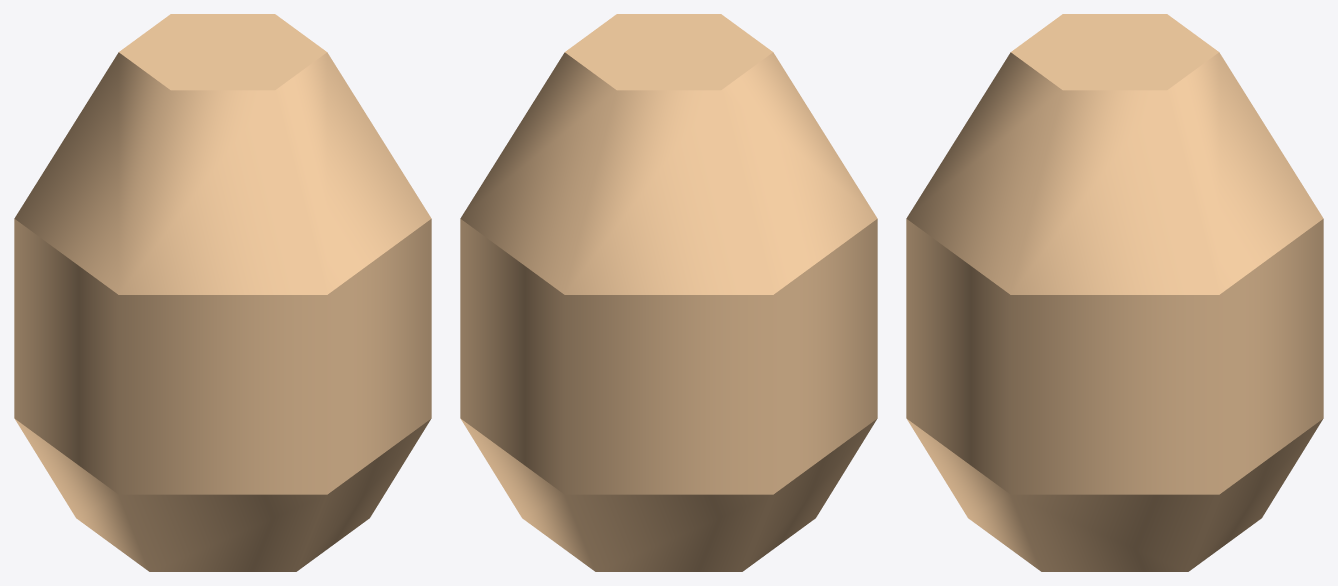
Rendered from egg.glb.
The picture shows the model from 3 angles, left to right: view 1: azimuth 30°, elevation 25°; view 2: azimuth 150°, elevation 25°; view 3: azimuth 270°, elevation 25°; orthographic projection.
Visible parts, largest first — view 1: egg; view 2: egg; view 3: egg.
Part boxes in pixels (left/top/right/bottom): egg: left=14, top=14, right=431, bottom=571; egg: left=460, top=14, right=877, bottom=571; egg: left=906, top=14, right=1323, bottom=571.
Bounding box in the file's own units: 0.1161 × 0.1652 × 0.1341.
